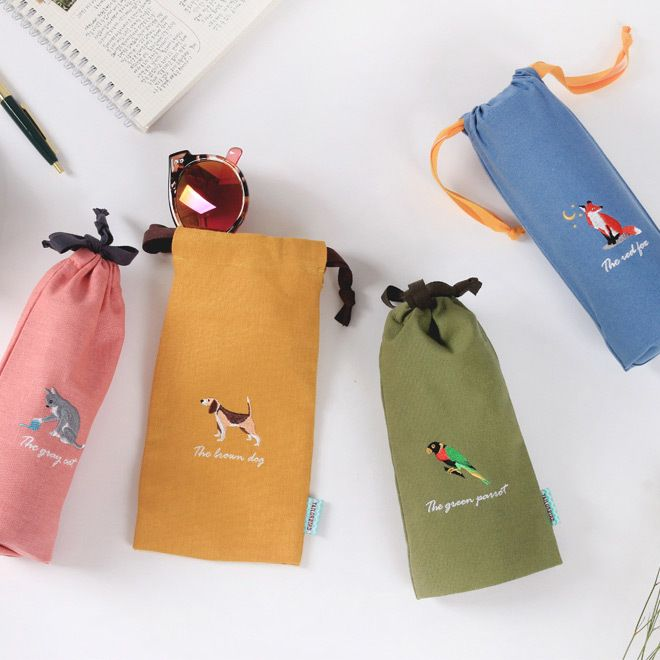nylon: (1, 68, 660, 596)
